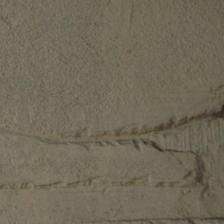Crack: (9, 114, 148, 224), (131, 28, 163, 112)
